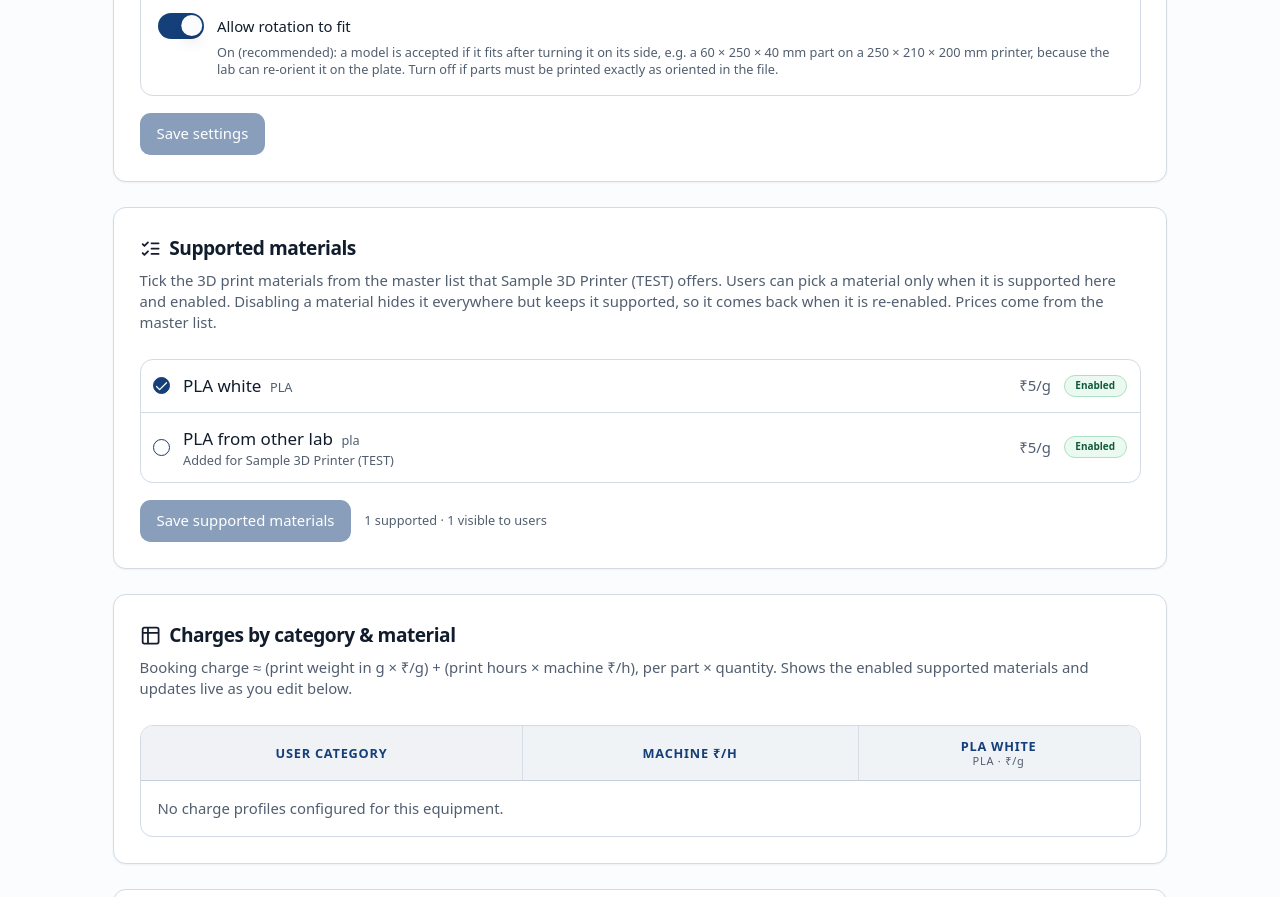
Test: OICPrintMaterials supported materials › blocks saving two materials with the same code
(page scrolled)
What coordinates should you click on to do the following:
click the checkbox named "PLA from other lab" next to "PLA from other lab"
I would click on:
 (162, 447)
Its box is [153,439,170,456].
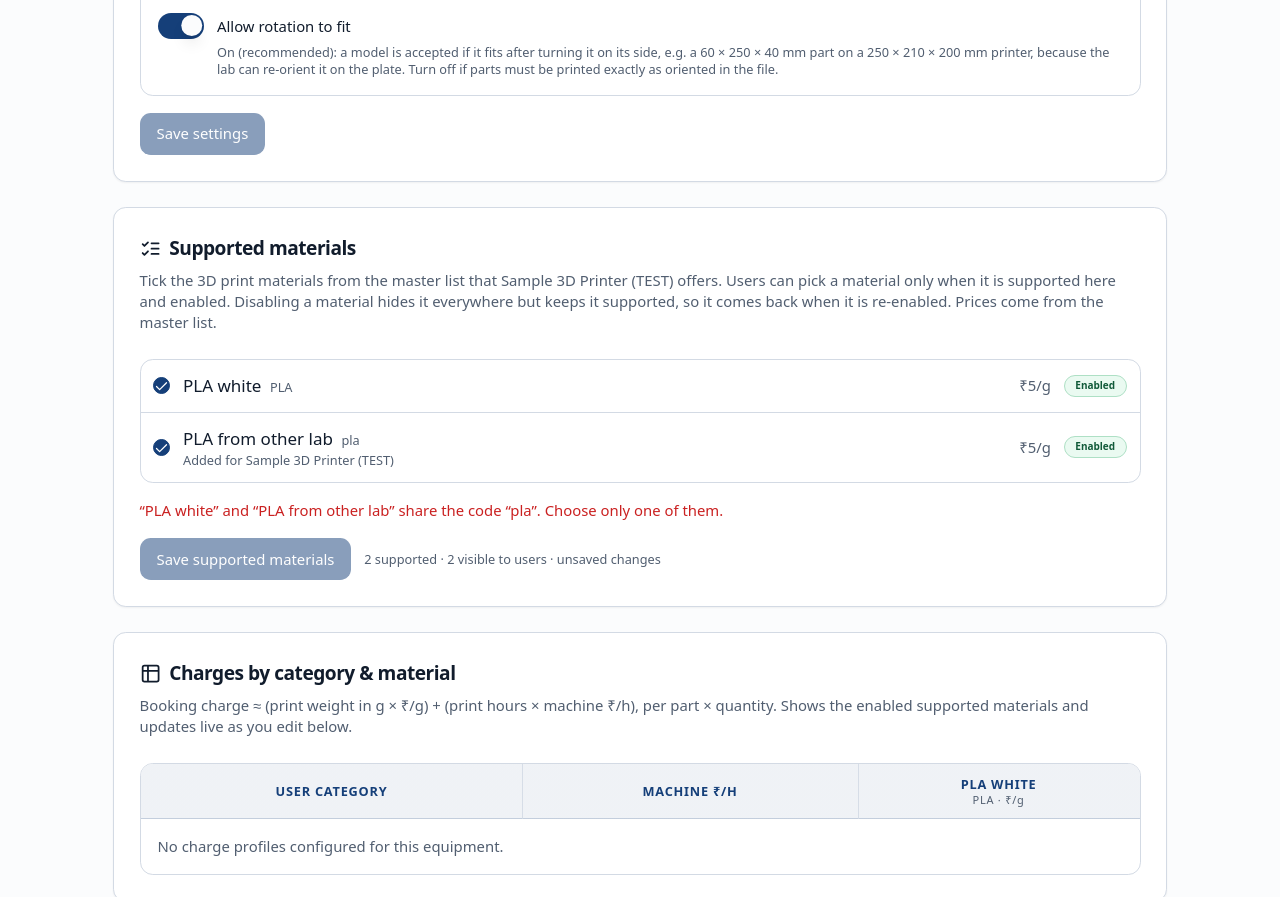
expect the button with test id "save-supported-materials" is disabled: met, box [140,538,352,580]
expect the text "share the code" is shown: met, box [140,500,723,520]
